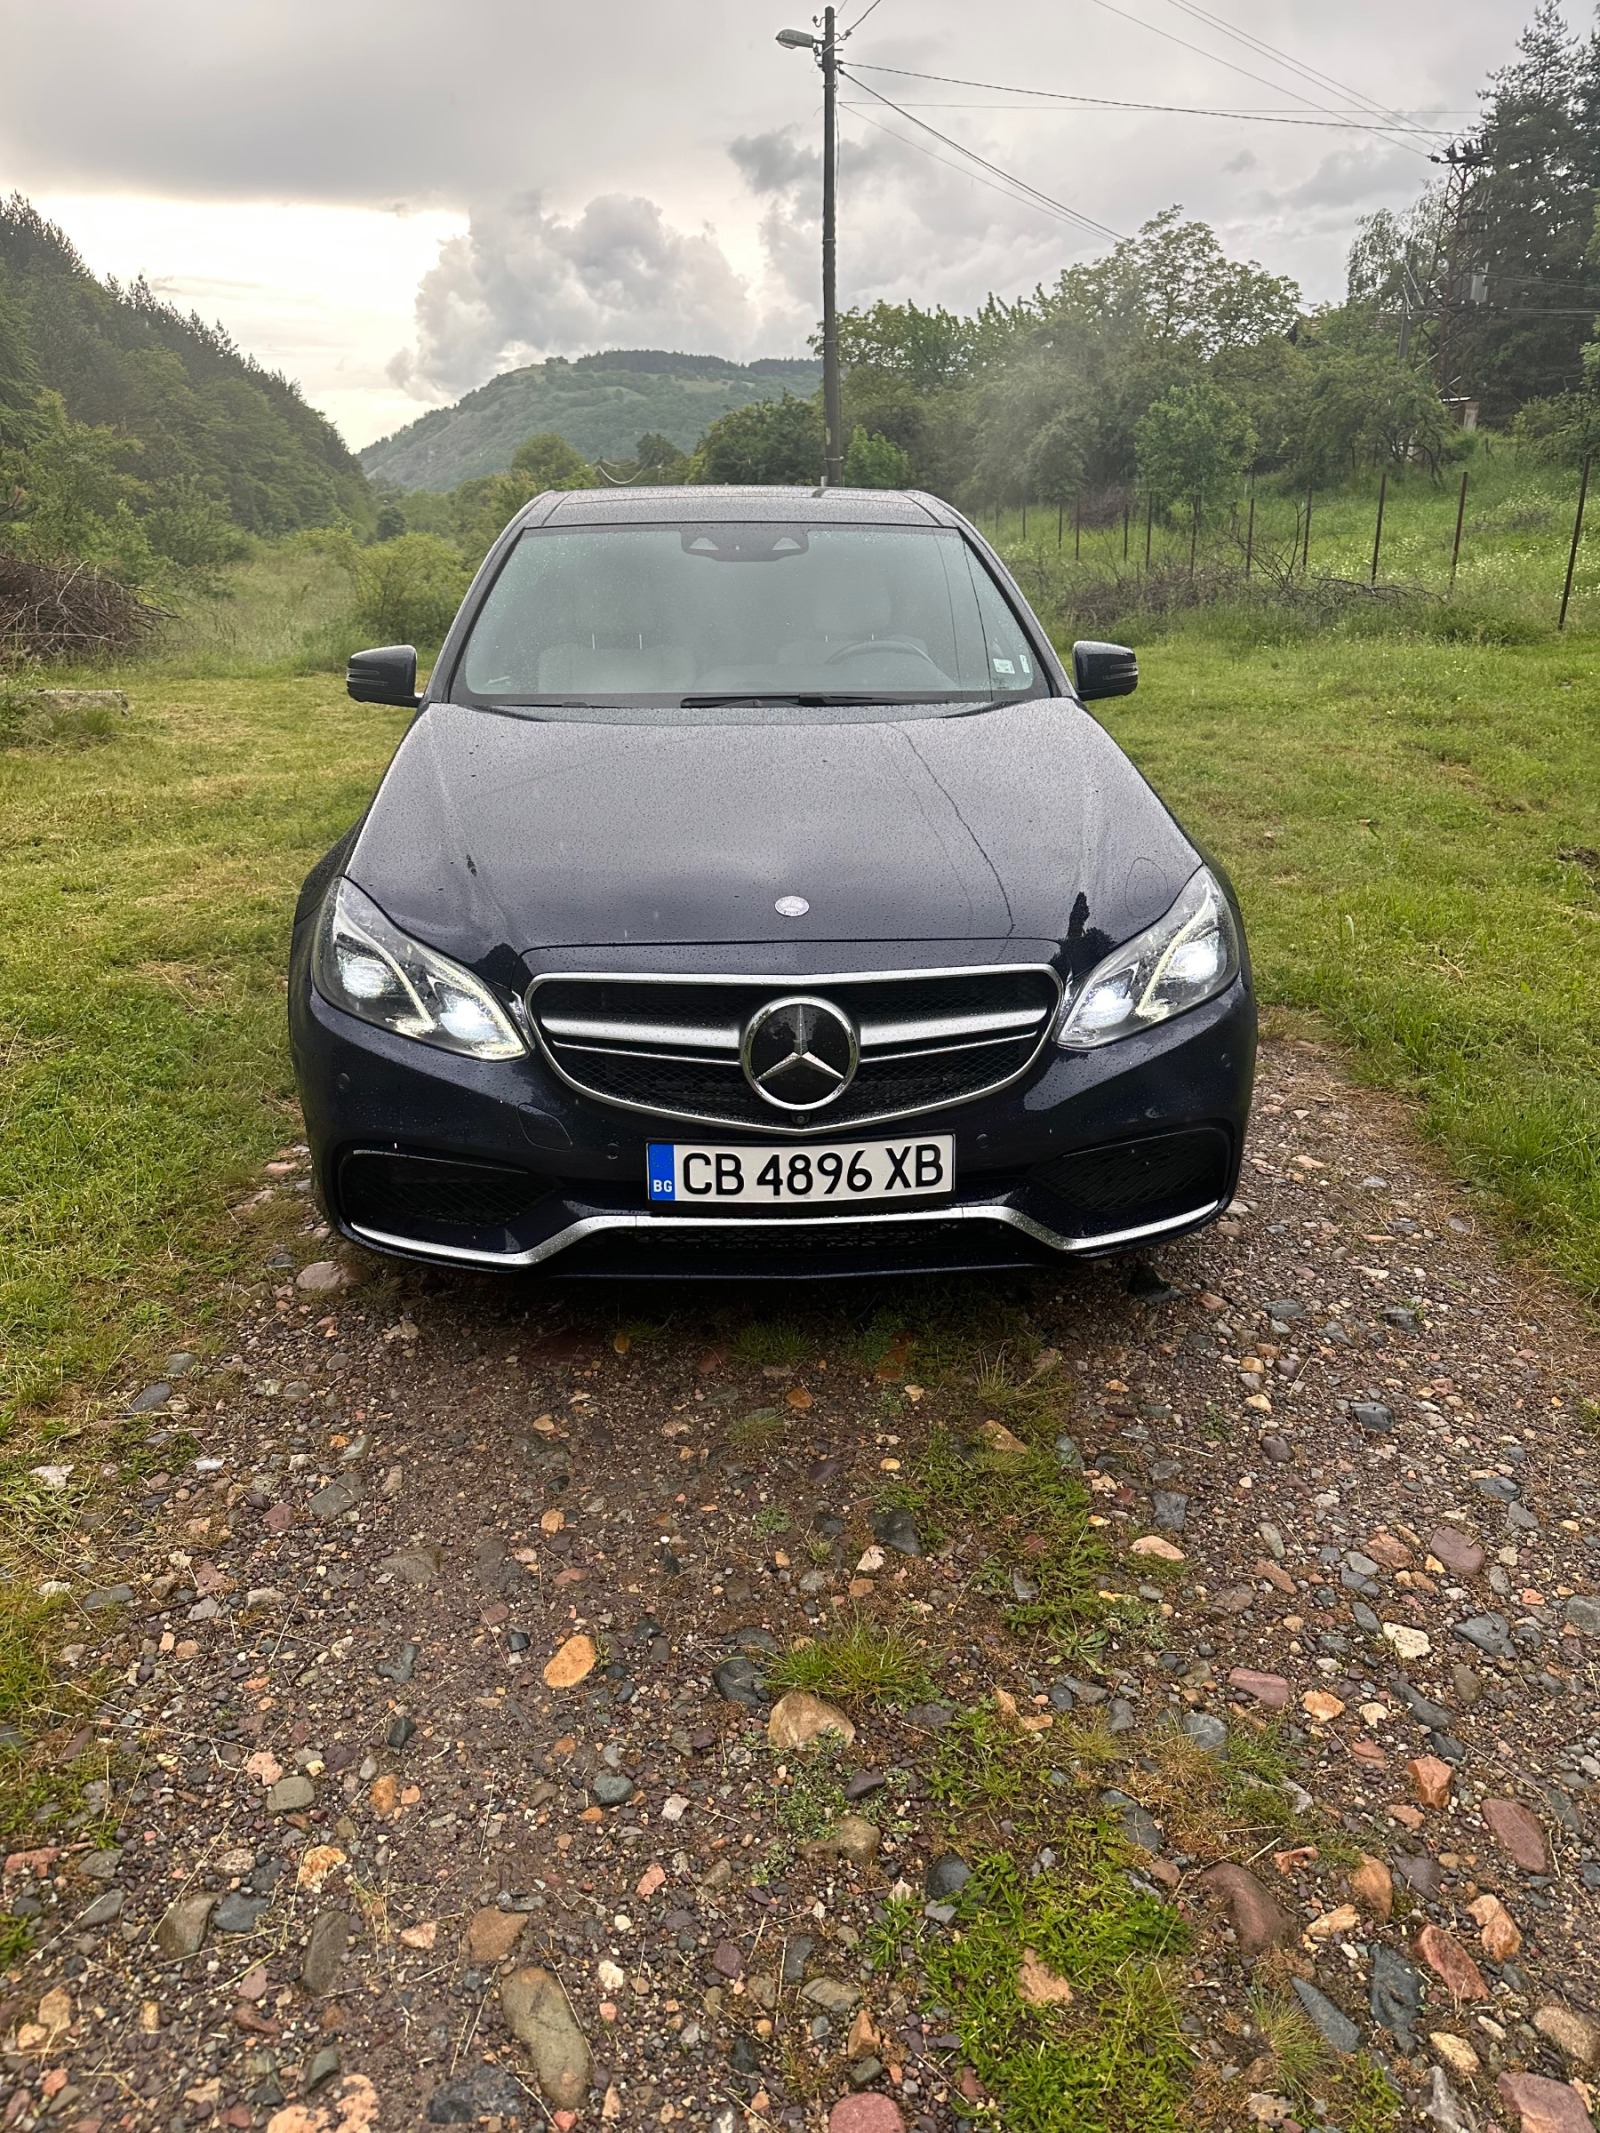registration_plate: (646, 1136, 962, 1214)
